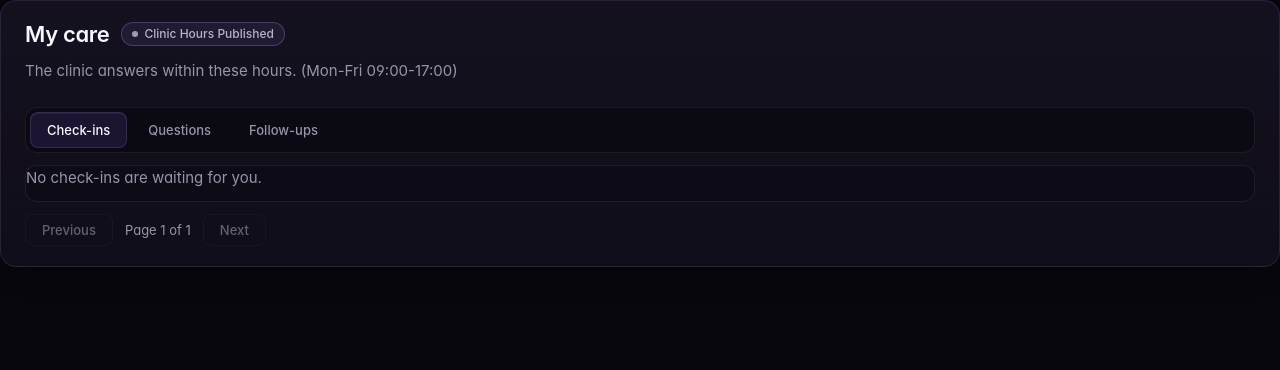
MyCare › shows prescribed follow-ups with their place, contact and reminder day
This screenshot has width=1280, height=370.
Click the tab "Follow-ups": (284, 130) [232,112,335,148]
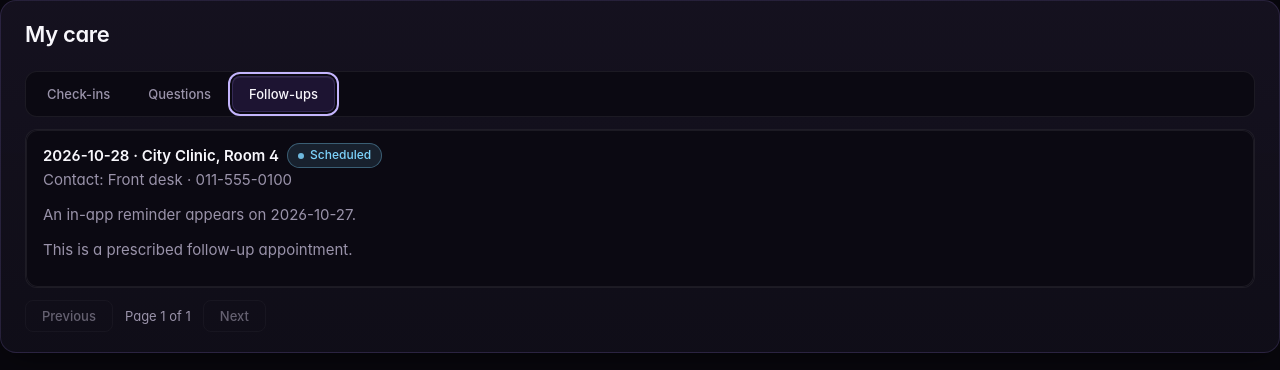
Result: the text "2026-10-28 · City Clinic, Room 4" is shown at [43,144,279,167]
Result: the text "scheduled" is shown at [287,143,382,168]
Result: the text "Contact: Front desk · 011-555-0100" is shown at [43,170,292,189]
